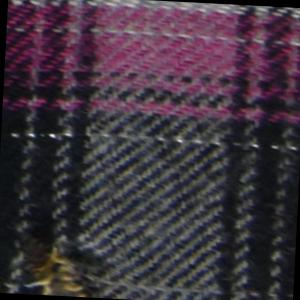Damage: (29, 242, 92, 298)
Oil Stain: (1, 225, 117, 299)
